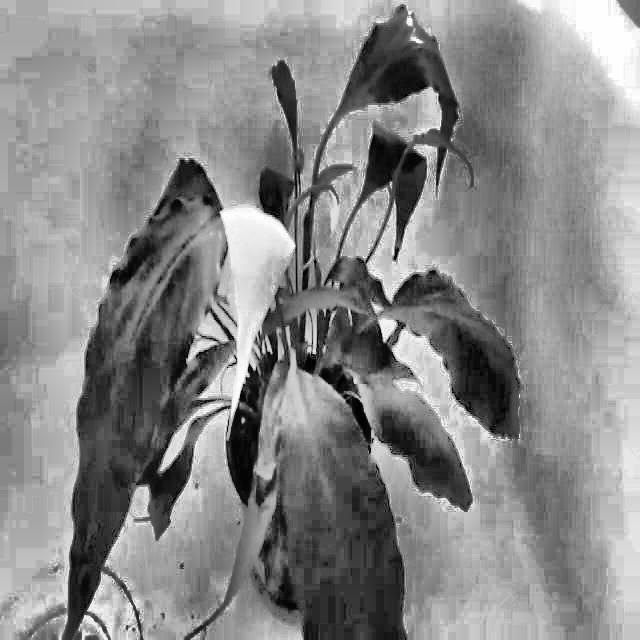plants: (65, 4, 527, 639), (146, 396, 230, 546), (254, 373, 282, 518)
